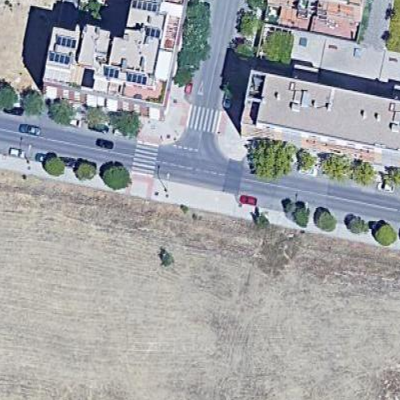tree: (246, 136, 296, 180), (178, 35, 212, 65), (321, 150, 351, 181), (101, 163, 134, 191), (48, 96, 78, 126), (113, 108, 142, 139), (229, 36, 258, 66), (186, 1, 214, 32), (40, 151, 68, 179), (372, 218, 398, 248), (20, 87, 46, 117), (82, 102, 109, 129), (235, 9, 265, 33), (354, 156, 377, 187), (72, 158, 100, 183), (170, 63, 195, 90), (1, 76, 19, 113), (297, 146, 319, 174), (288, 202, 312, 227), (347, 213, 370, 239), (381, 162, 400, 193), (316, 208, 337, 235), (248, 208, 272, 229)
